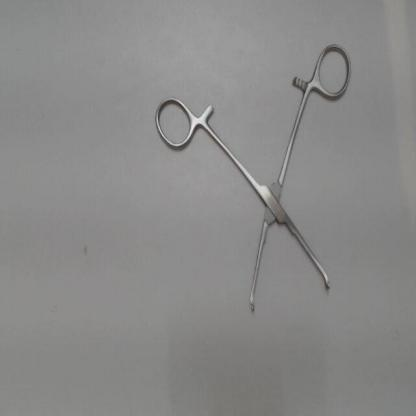Allis Tissue Forceps: (147, 35, 359, 323)
